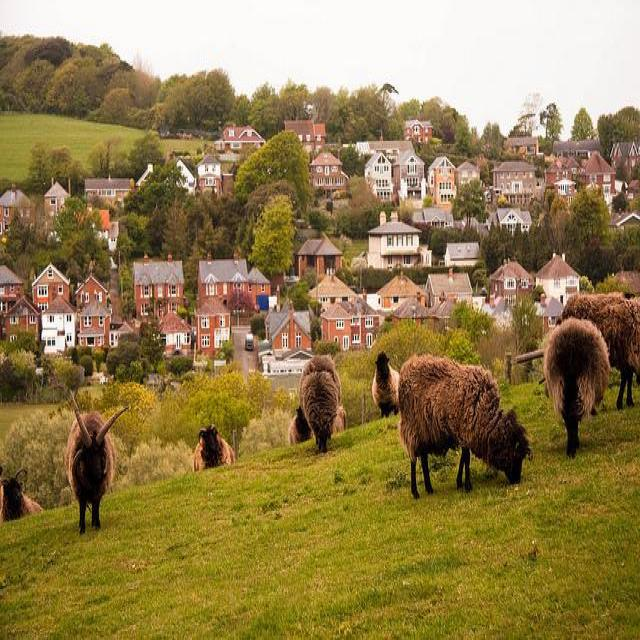Sheep: (400, 354, 532, 494), (542, 317, 612, 458), (559, 288, 639, 410), (65, 386, 130, 536), (298, 354, 343, 454), (0, 469, 42, 523)
